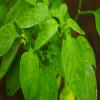Bell_pepper leaf: (61, 37, 86, 98), (19, 48, 40, 99), (33, 17, 59, 52), (16, 3, 50, 29), (77, 33, 97, 71), (46, 44, 66, 81), (83, 58, 98, 100), (39, 66, 58, 99), (0, 24, 19, 56), (67, 16, 86, 36), (51, 6, 68, 18)
